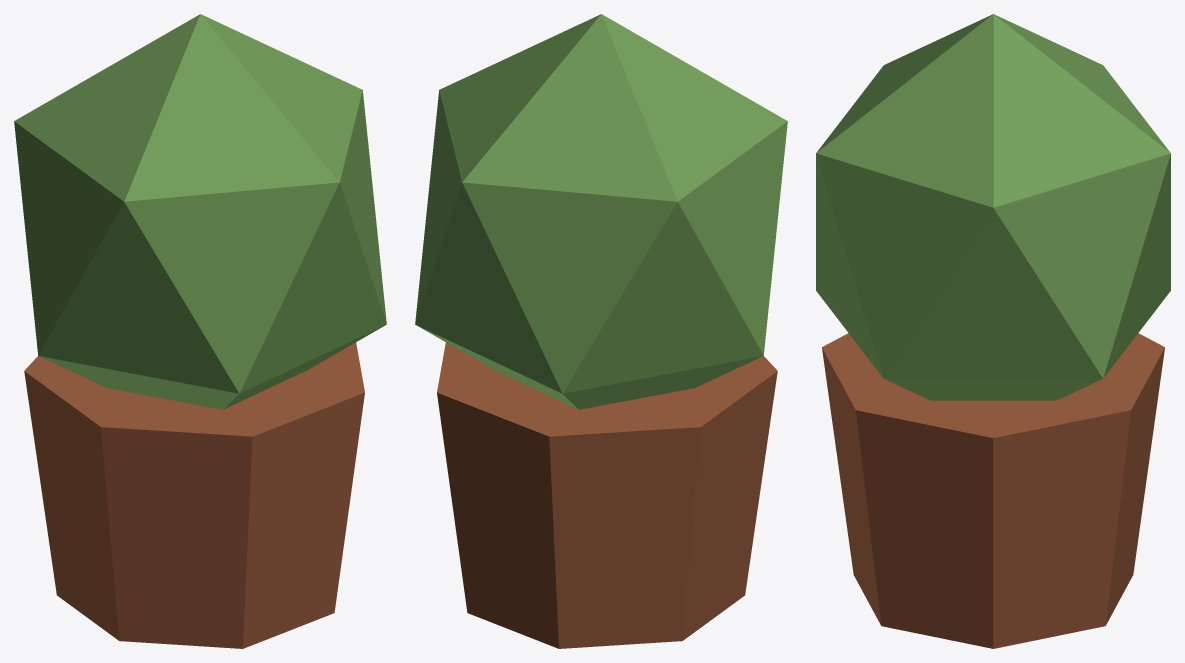
The model's file is prop_pot_plant.fbx.
The picture shows the model from 3 angles, left to right: view 1: azimuth 30°, elevation 25°; view 2: azimuth 150°, elevation 25°; view 3: azimuth 270°, elevation 25°; orthographic projection.
Parts seen in each view (by area): view 1: prop_pot_plant; view 2: prop_pot_plant; view 3: prop_pot_plant.
Part boxes in pixels (x1=…): prop_pot_plant: x1=14, y1=14, x2=386, y2=648; prop_pot_plant: x1=415, y1=14, x2=787, y2=648; prop_pot_plant: x1=816, y1=14, x2=1170, y2=648.
Size of the model in its own units: 0.5724 by 0.972 by 0.5444.
1 material, 1 textured.
